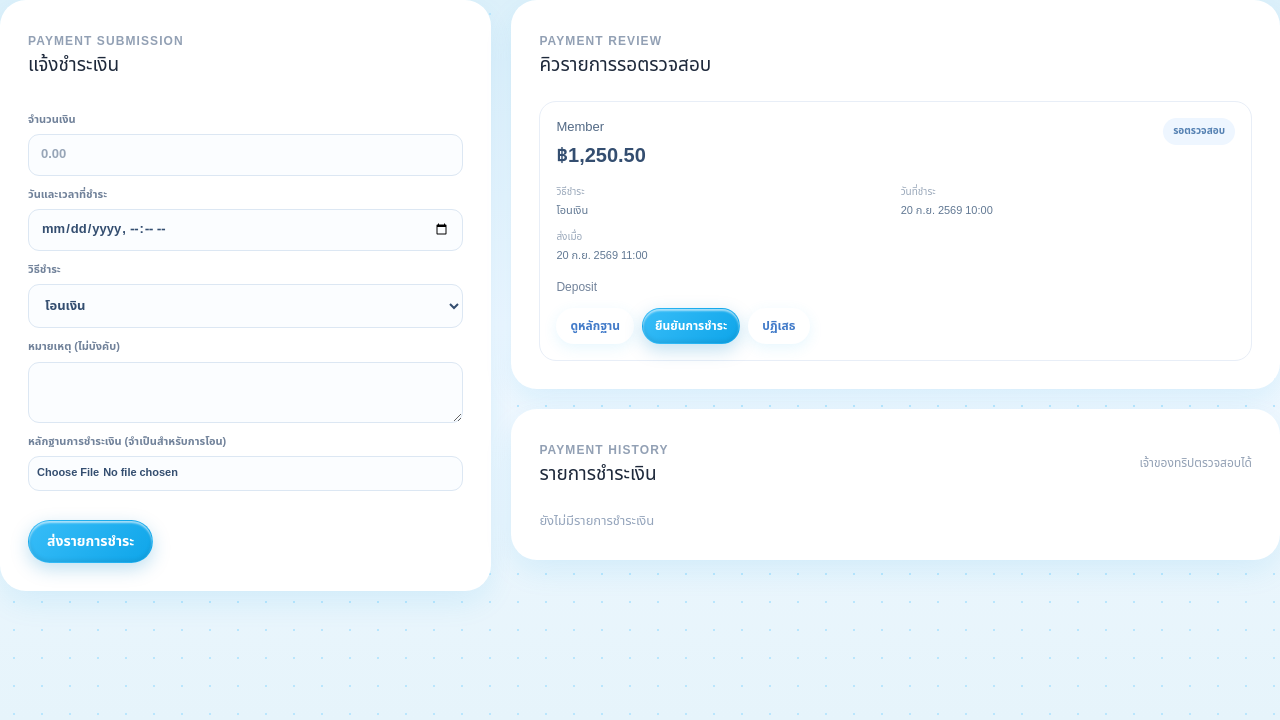
Test: M2.8 payment submission, history, and review UI › refreshes when the owner review loses a race to another reviewer
The width and height of the screenshot is (1280, 720).
Click the button "ยืนยันการชำระ" at {"x": 691, "y": 326}, box [642,308,740,344]
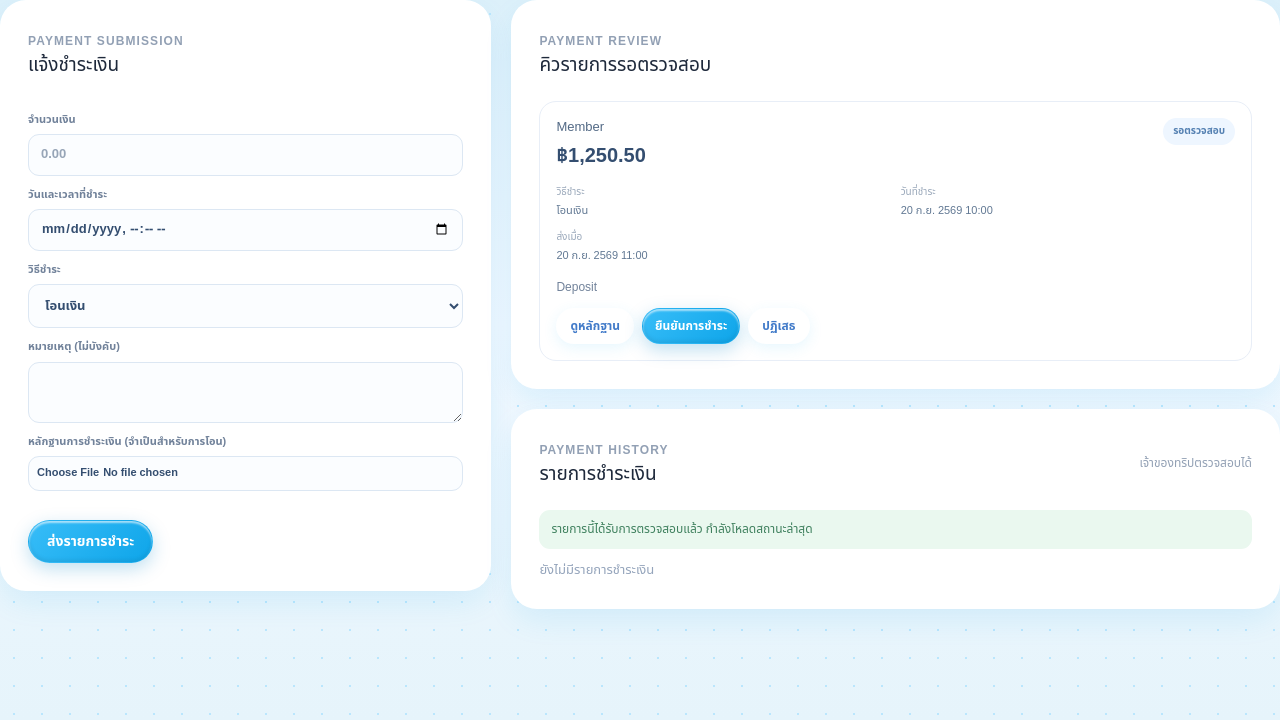
Now the message shows "ได้รับการตรวจสอบแล้ว", box [551,520,813,538]
